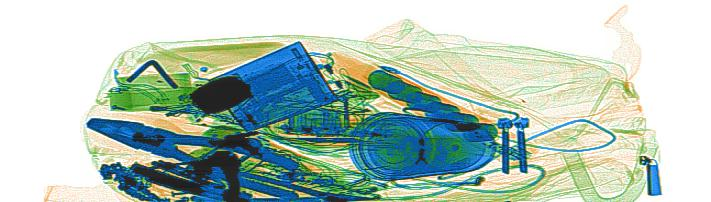battery: (364, 67, 514, 144)
